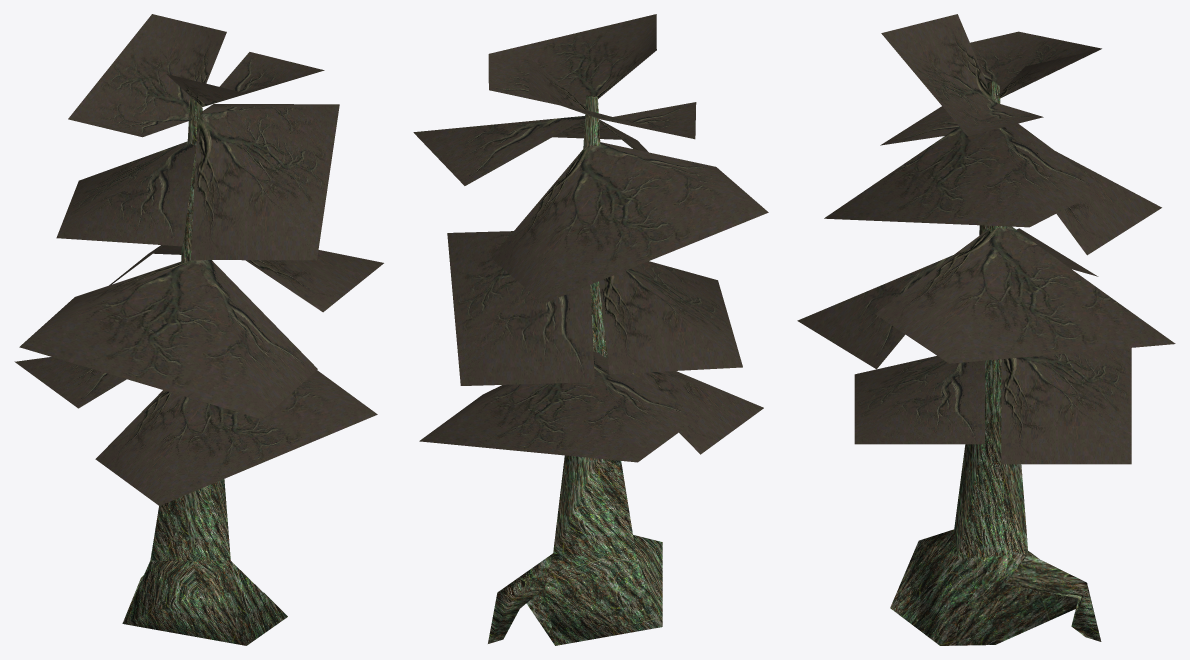
The model's file is decd_dath_humungtree_l3.fbx.
3 renders of one model, left to right at view 1: azimuth 30°, elevation 25°; view 2: azimuth 150°, elevation 25°; view 3: azimuth 270°, elevation 25°, orthographic. The views are drawn at different scales.
Parts seen in each view (by area): view 1: mesh_node; view 2: mesh_node; view 3: mesh_node.
Boxes of the visible parts, <box> form: mesh_node: <box>14,14,383,645</box>; mesh_node: <box>413,14,768,645</box>; mesh_node: <box>797,14,1175,645</box>.
Bounding box in the file's own units: 44.63 × 73.62 × 43.38.
Materials: 2 (2 with a texture image).
